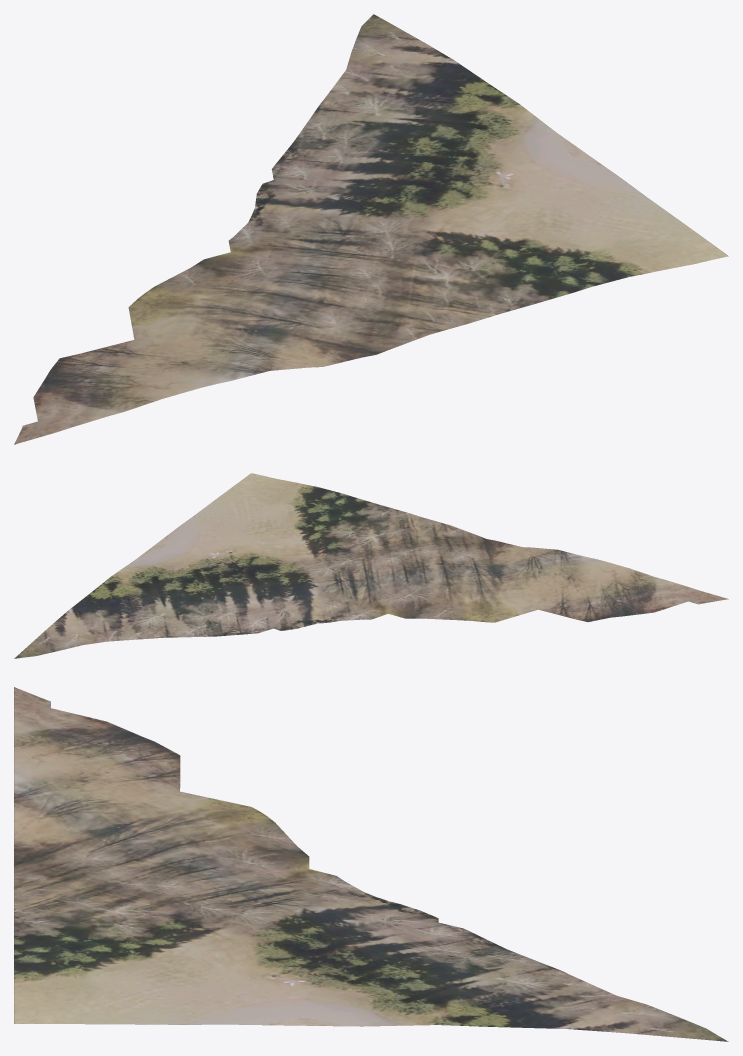
The model's file is CM_Terrain_24487182_6819794.fbx.
3 renders of one model, top to bottom at view 1: azimuth 30°, elevation 25°; view 2: azimuth 150°, elevation 25°; view 3: azimuth 270°, elevation 25°, orthographic. The views are drawn at different scales.
Parts seen in each view (by area): view 1: CM_Terrain_24487182_6819794_LOD0; view 2: CM_Terrain_24487182_6819794_LOD0; view 3: CM_Terrain_24487182_6819794_LOD0.
Part boxes in pixels (x1,y1,x2,y2): CM_Terrain_24487182_6819794_LOD0: [14, 14, 728, 444]; CM_Terrain_24487182_6819794_LOD0: [14, 473, 728, 658]; CM_Terrain_24487182_6819794_LOD0: [14, 687, 728, 1041].
Size of what is drawn, in the model's own units: 95.99 by 3 by 82.61.
